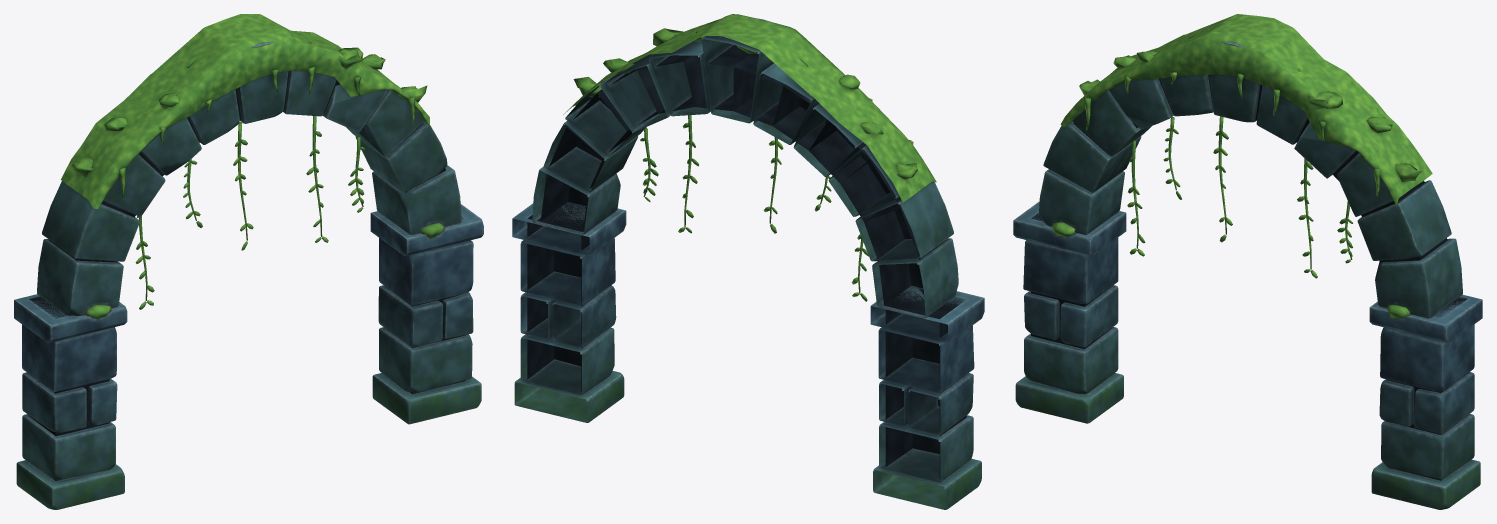
The model's file is ENV_Arch.fbx.
3 renders of one model, left to right at view 1: azimuth 30°, elevation 25°; view 2: azimuth 150°, elevation 25°; view 3: azimuth 330°, elevation 25°, orthographic.
Parts seen in each view (by area): view 1: ENV_Arch; view 2: ENV_Arch; view 3: ENV_Arch.
Boxes of the visible parts, x1=… form: ENV_Arch: x1=14, y1=14, x2=483, y2=509; ENV_Arch: x1=512, y1=14, x2=984, y2=509; ENV_Arch: x1=1013, y1=14, x2=1482, y2=509.
Bounding box in the file's own units: 5.96 × 5.49 × 0.9257.
